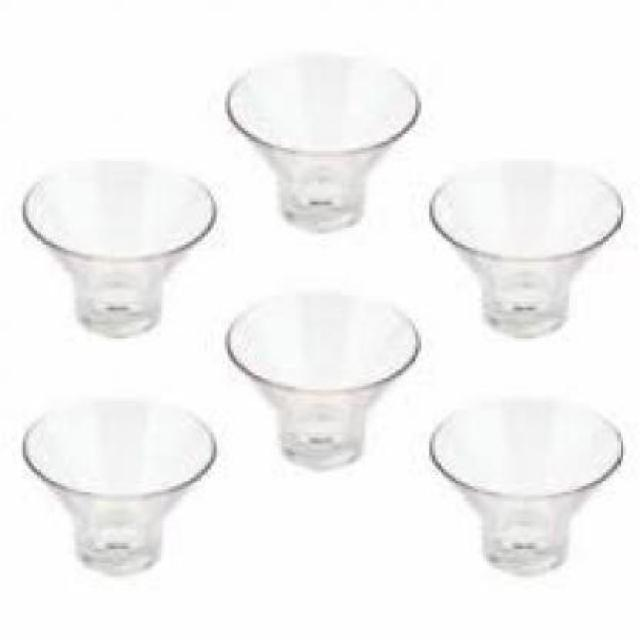kaca: (426, 154, 620, 335), (20, 392, 214, 572), (17, 160, 214, 335), (426, 396, 620, 570), (222, 294, 416, 468), (224, 57, 416, 228)
